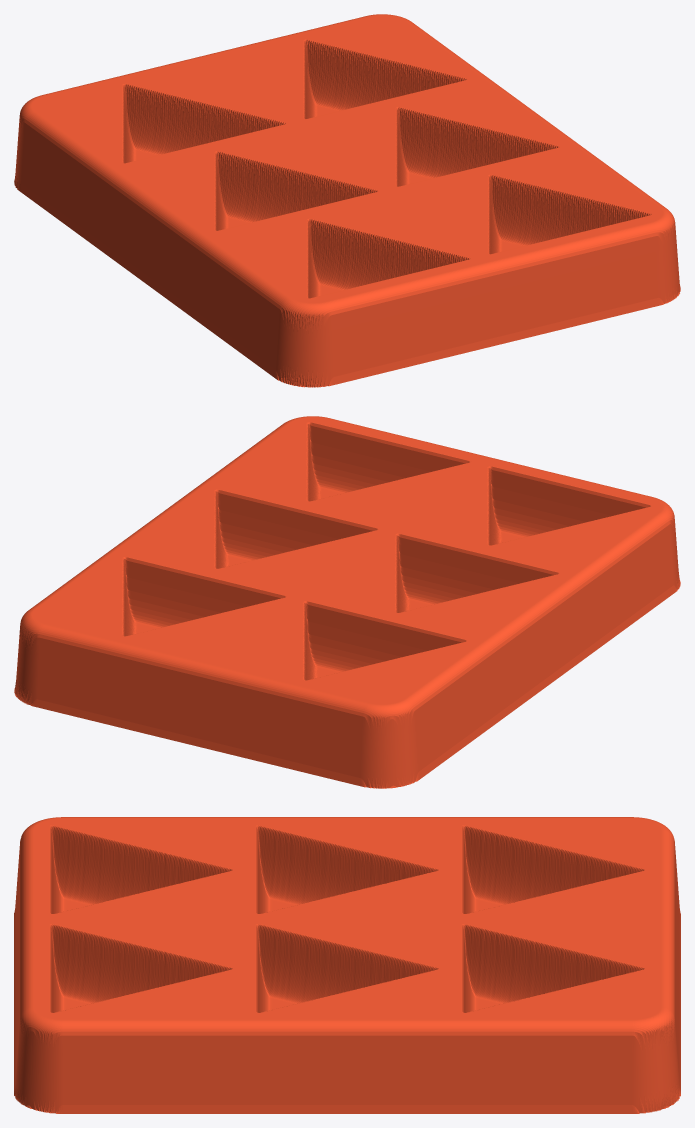
The model's file is mold.glb.
3 views of the same model, one above another, from view 1: azimuth 30°, elevation 25°; view 2: azimuth 150°, elevation 25°; view 3: azimuth 270°, elevation 25° (orthographic). The views are drawn at different scales.
Visible parts, largest first — view 1: geometry_0; view 2: geometry_0; view 3: geometry_0.
Boxes of the visible parts, box(x1,y1,x2,y2) form: geometry_0: box(14, 14, 680, 387); geometry_0: box(14, 416, 680, 788); geometry_0: box(14, 817, 680, 1113).
Size of the model in its own units: 0.0955 by 0.0175 by 0.1234.
